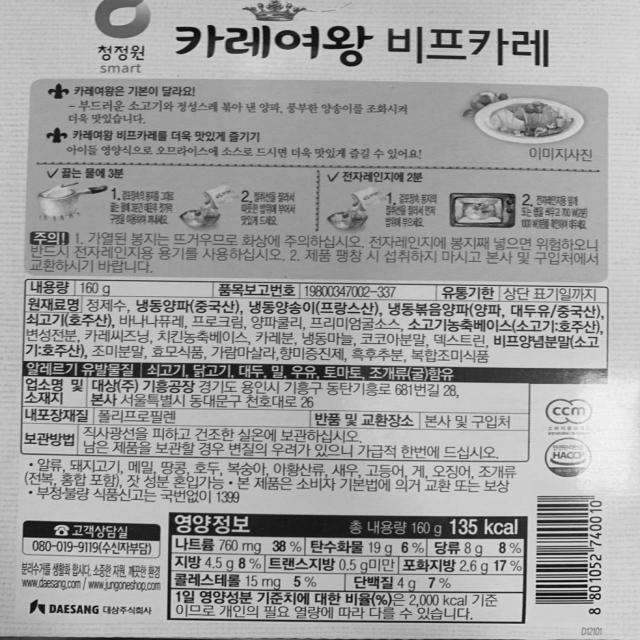Nutrition Label: (163, 507, 539, 633)
